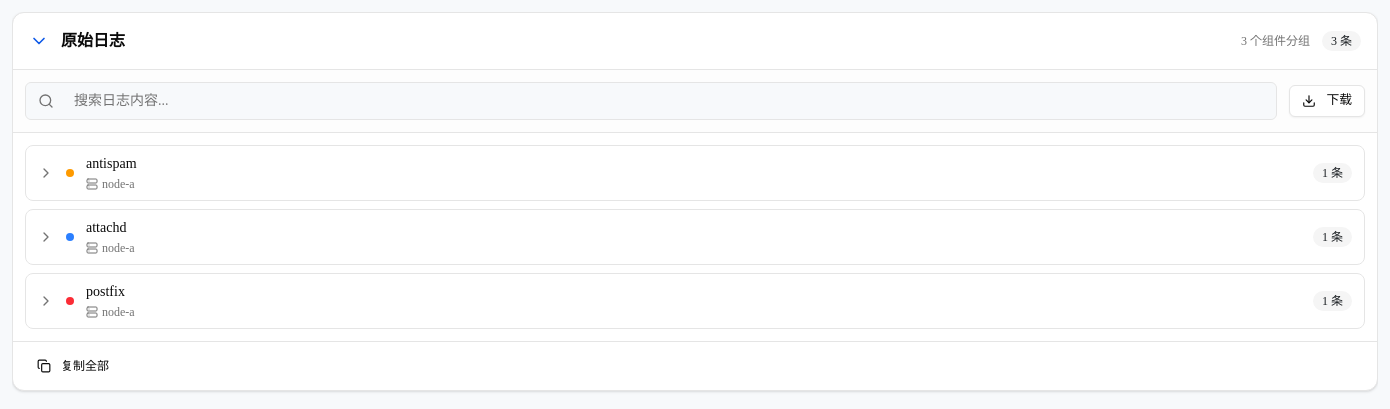
Test: RawLogsSection › shows 找到 X / N 条记录 only when the search box is non-empty (gap 3.5)
In the field with test id "disposal-raw-logs-search": (663, 101) left=62, top=83, right=1264, bottom=119, type "DELIVERY"
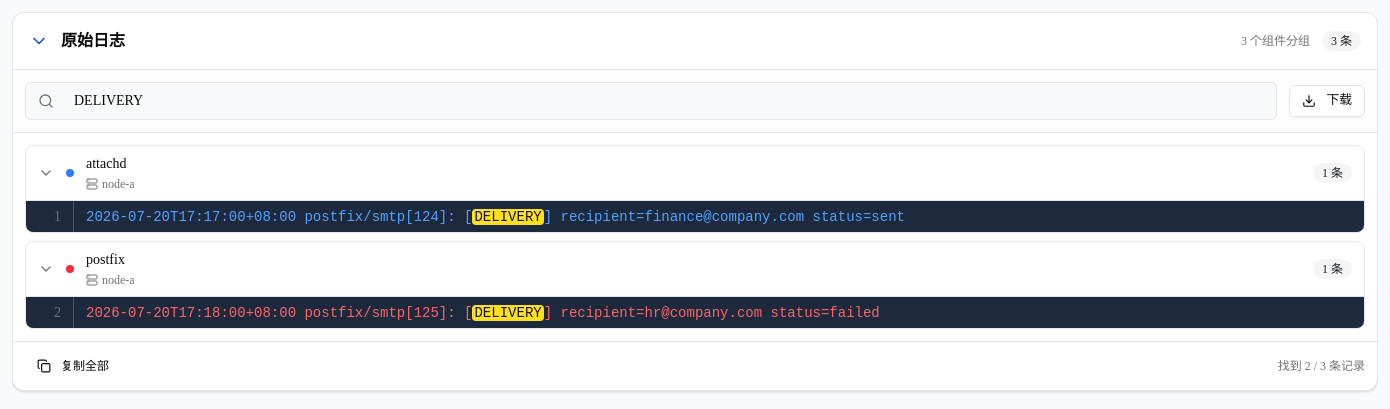
Check: the text with test id "disposal-raw-logs-found-count" shows "找到 2", box left=1278, top=359, right=1365, bottom=373
Check: the text with test id "disposal-raw-logs-found-count" shows "条记录", box left=1278, top=359, right=1365, bottom=373
Clear the field with test id "disposal-raw-logs-search": (663, 101) left=62, top=83, right=1264, bottom=119
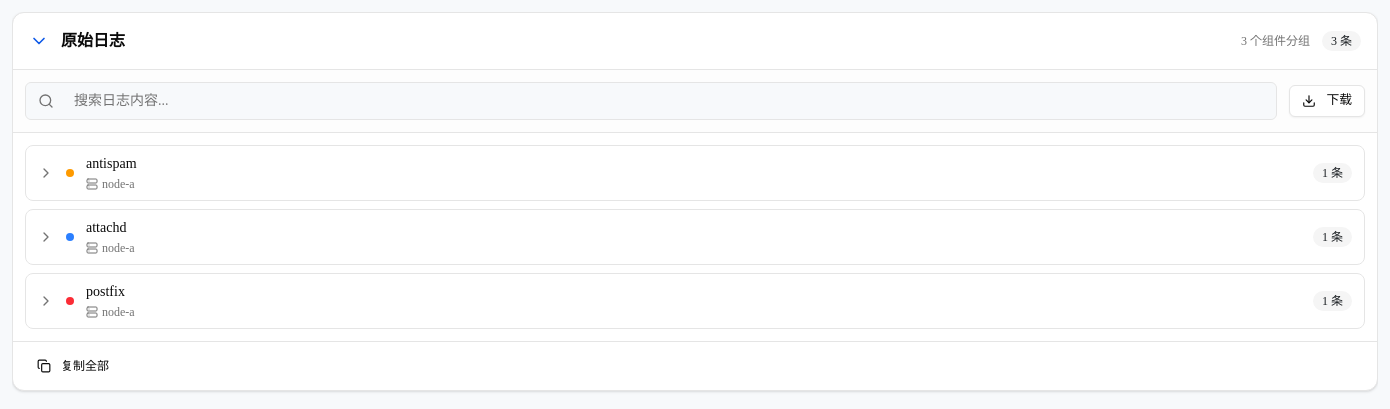
Check: the text with test id "disposal-raw-logs-found-count" is gone
